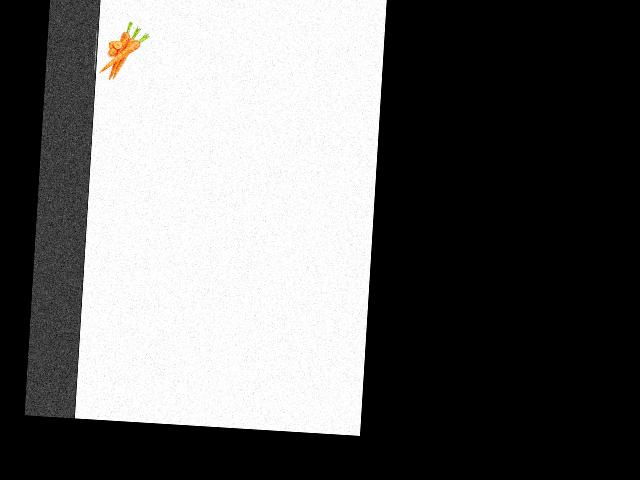carrot: (110, 27, 136, 82)
